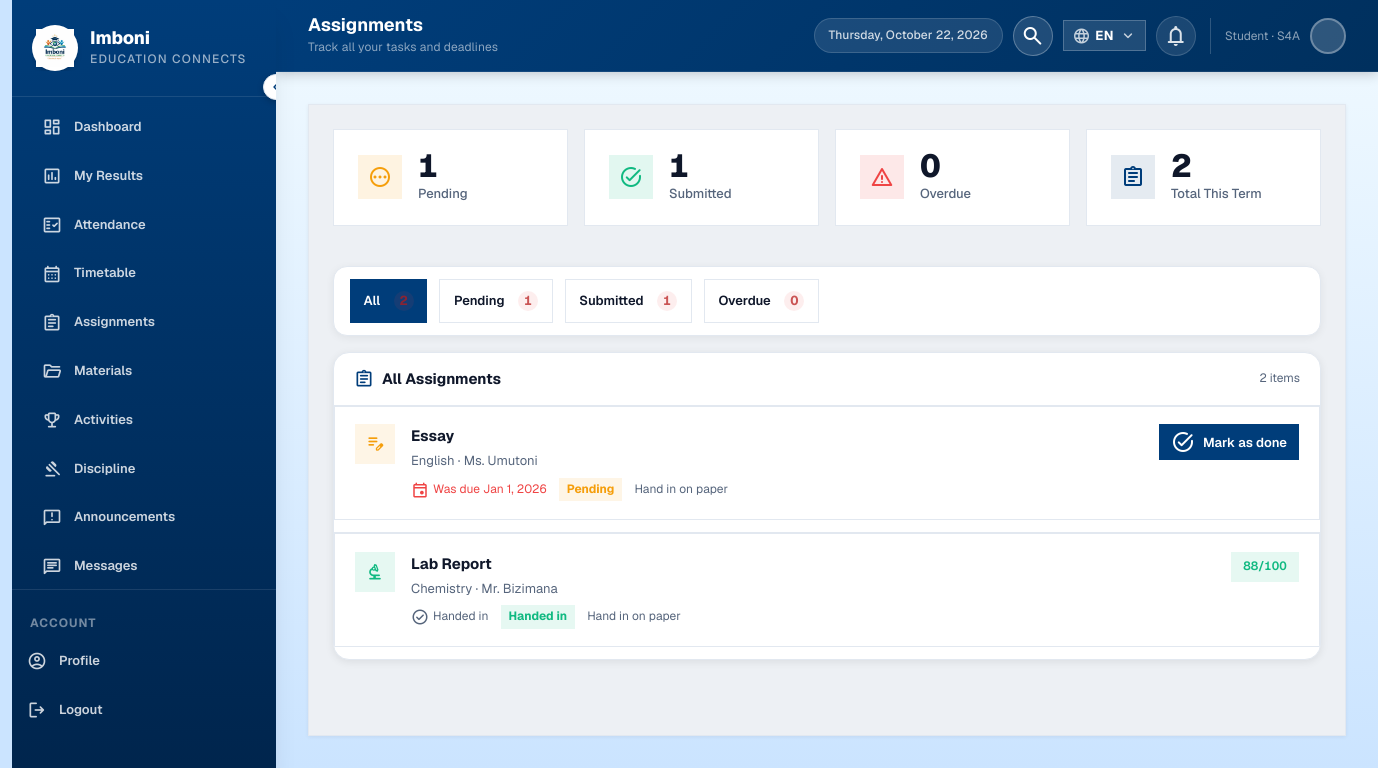
Scenario: StudentAssignments › shows the empty state for a filter with no matches
Expected: the text "Essay" is shown, 411,426 -> 454,445
Click the button "Overdue 0" at (761, 301), box 704,279 -> 819,323
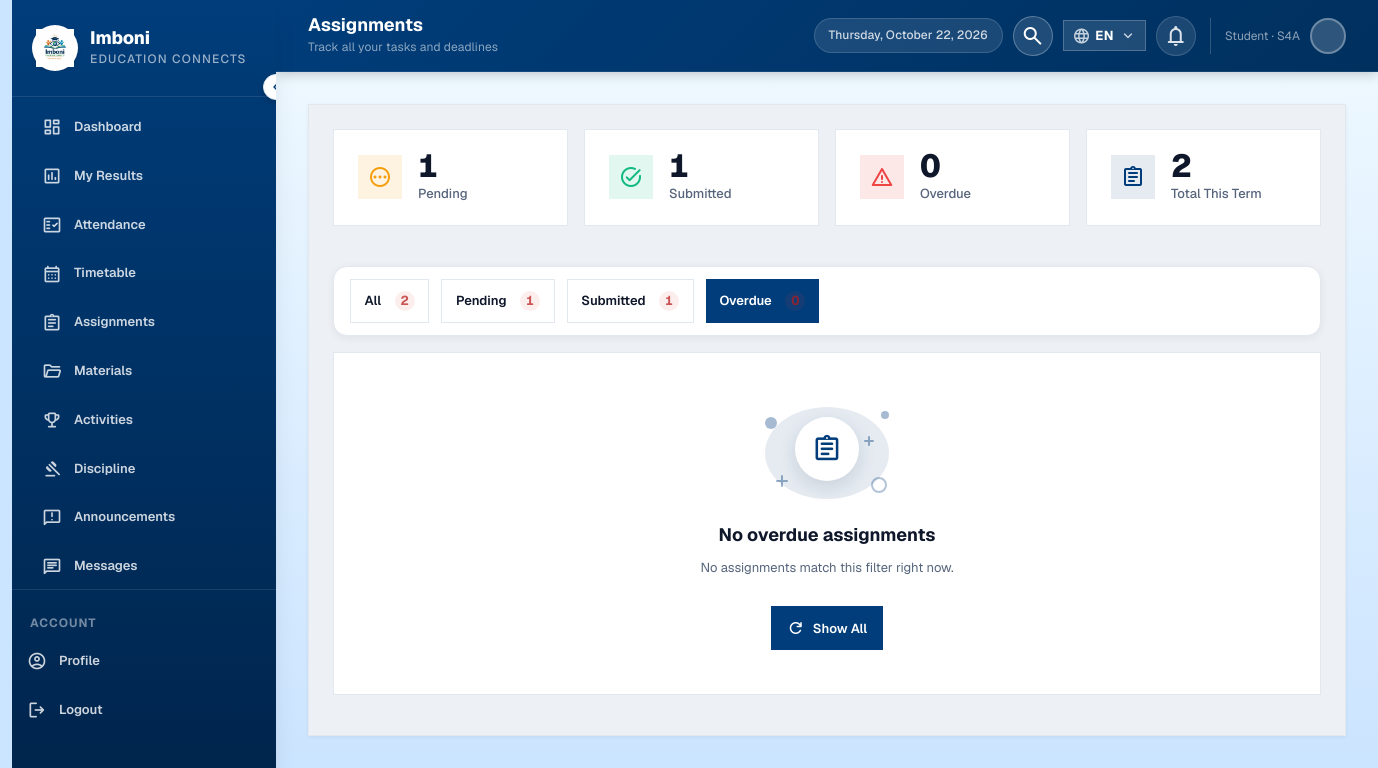
Now the text "No overdue assignments" is shown, box 719,521 -> 936,550
